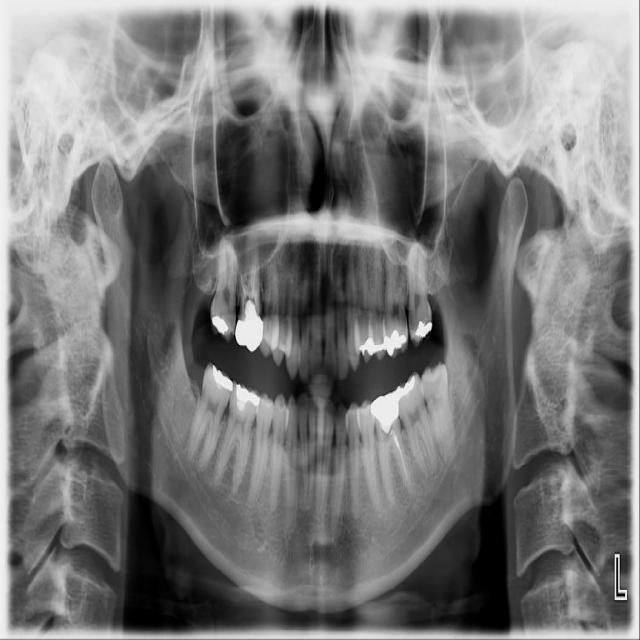Crown: (371, 392, 400, 425)
Filling: (235, 302, 263, 354), (233, 384, 260, 411), (384, 331, 407, 354), (213, 366, 234, 390), (394, 376, 416, 398), (413, 319, 433, 338), (369, 338, 387, 355), (212, 316, 228, 333), (357, 337, 369, 357)
Root Canal Treatment: (392, 437, 408, 481), (250, 248, 254, 292), (240, 274, 248, 294)
impacted tooth: (422, 363, 458, 462)
